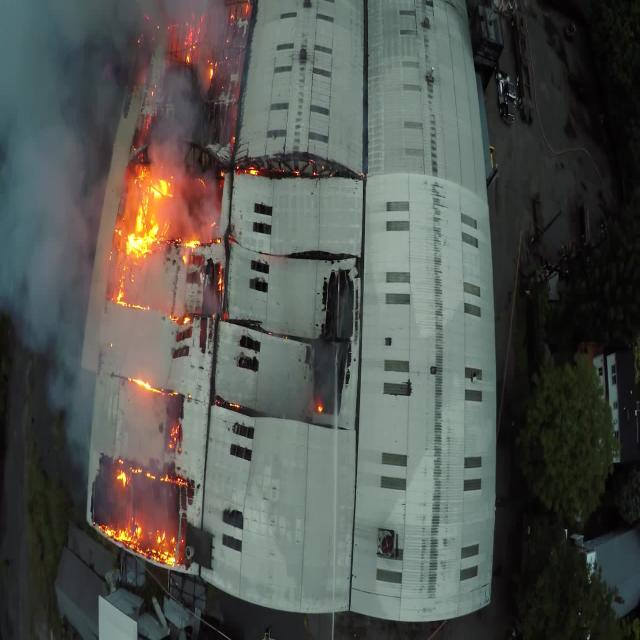fire: (124, 166, 170, 260)
smoke: (3, 4, 72, 324), (54, 340, 96, 434), (151, 76, 193, 163)
